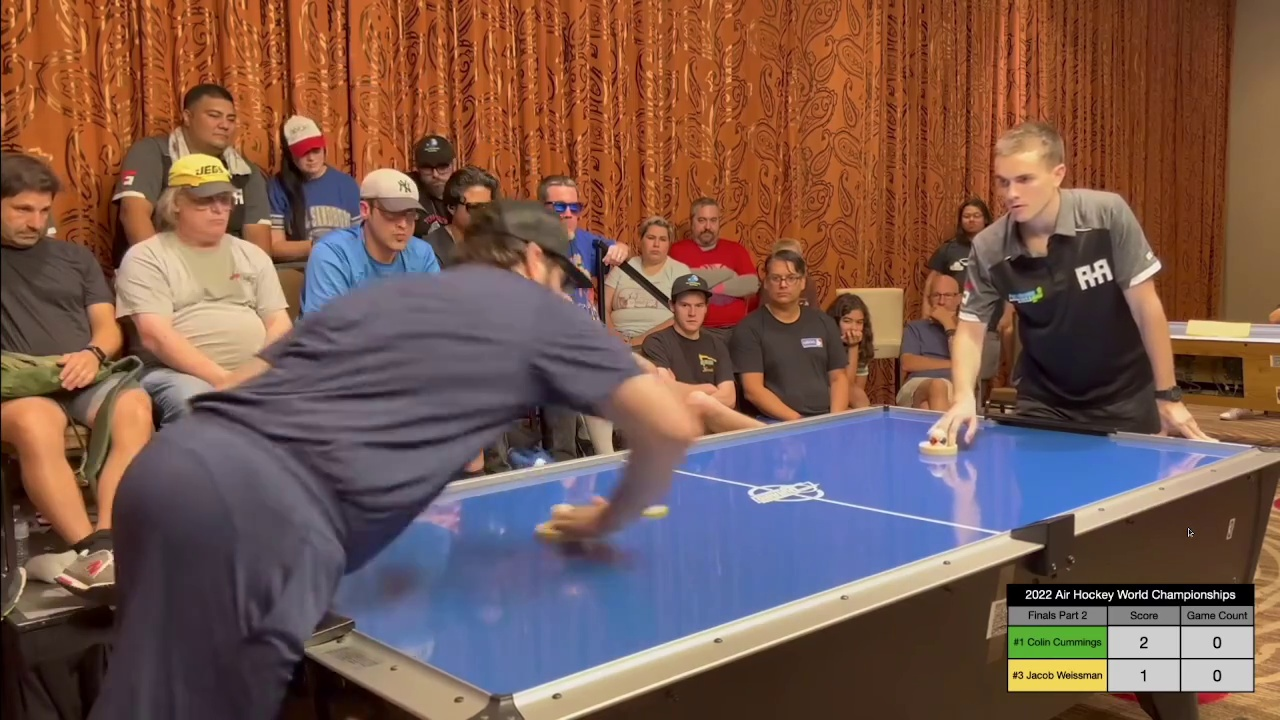player: (533, 502, 590, 546), (918, 430, 957, 460)
puck: (645, 505, 669, 516)
table: (245, 403, 1280, 702)
